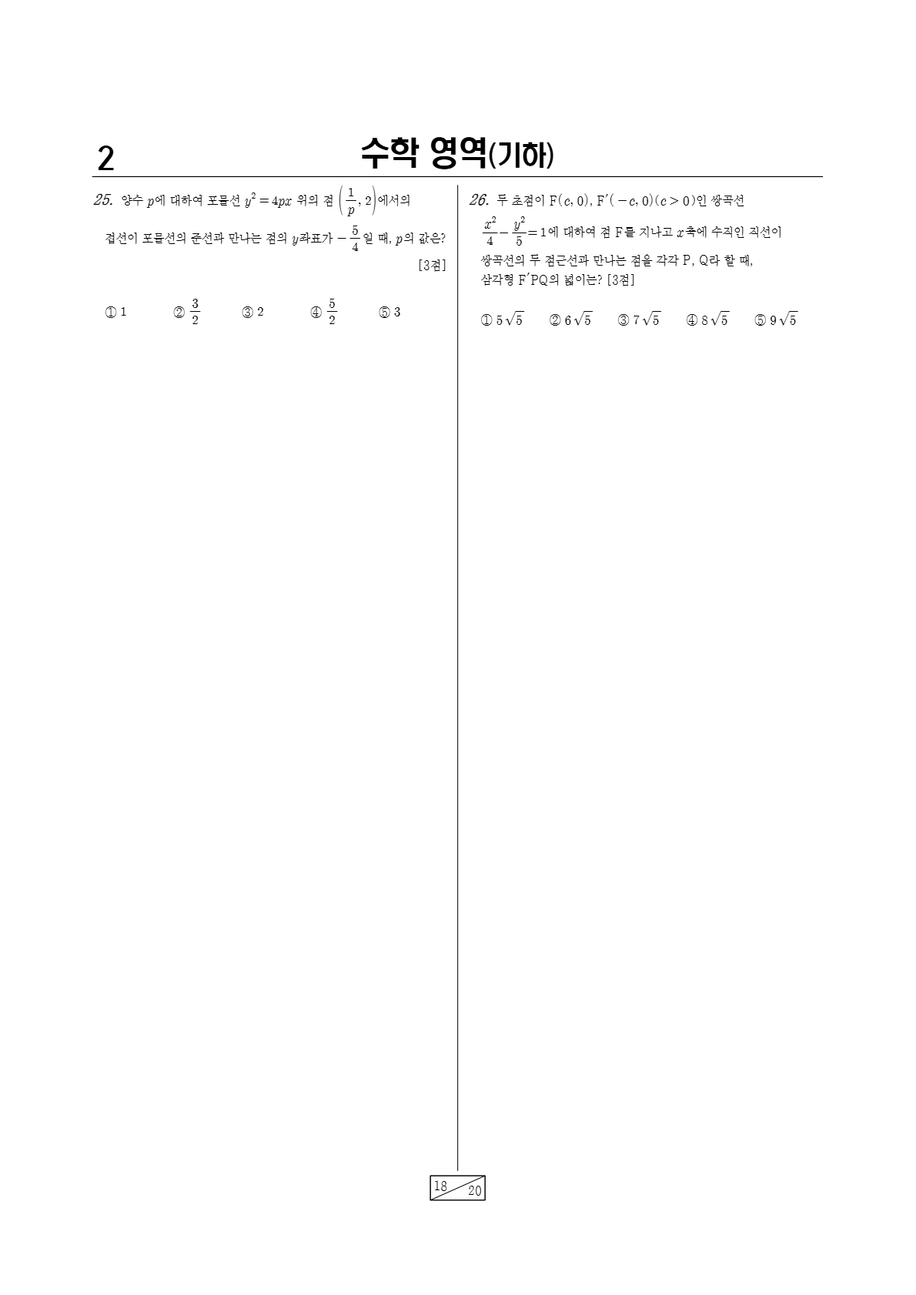opt_1: (480, 312, 492, 326), (105, 306, 115, 318)
opt_2: (173, 305, 184, 318), (550, 313, 560, 326)
opt_3: (617, 313, 629, 326), (242, 306, 253, 318)
opt_4: (309, 303, 322, 319), (686, 312, 697, 326)
opt_5: (755, 313, 766, 326), (379, 306, 390, 318)
